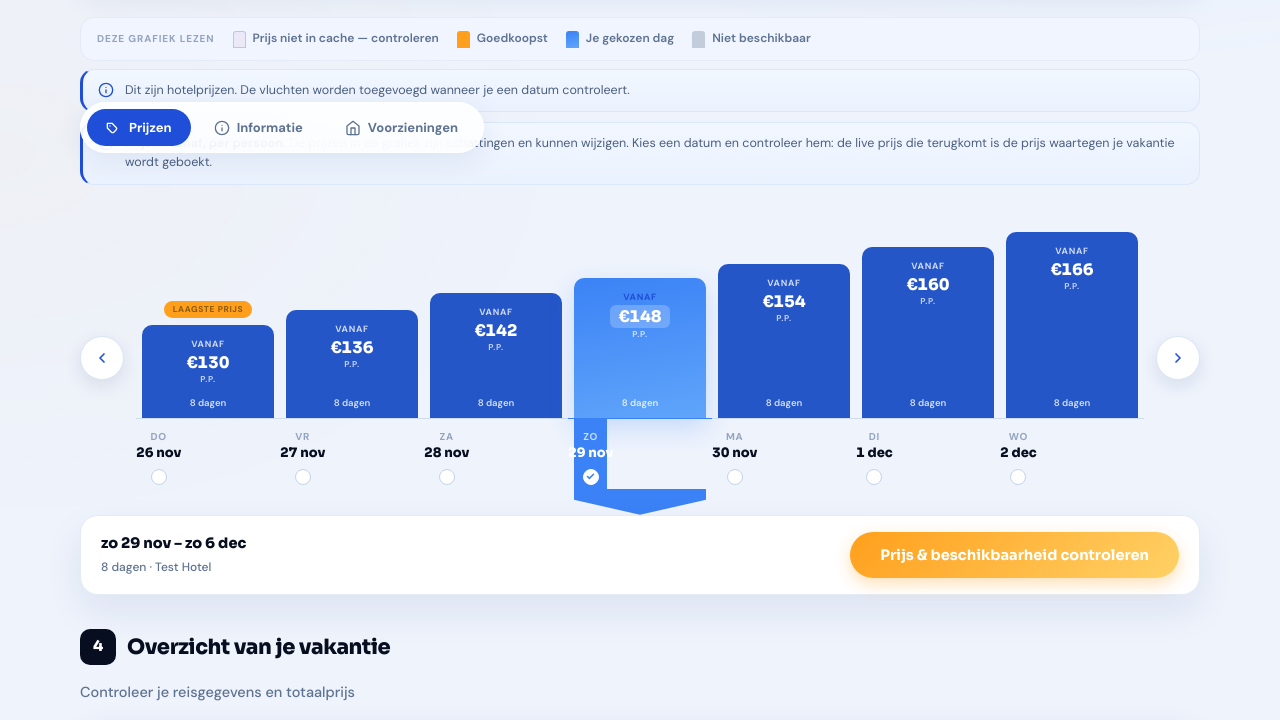
Test case: a sold-out day disables the check button › greys the button and renames it "Not Available"
(page scrolled)
Click the button "Laagste prijs vanaf €130 p.p. 8 dagen do 26 nov" at (208, 361), box [136,207,280,515]
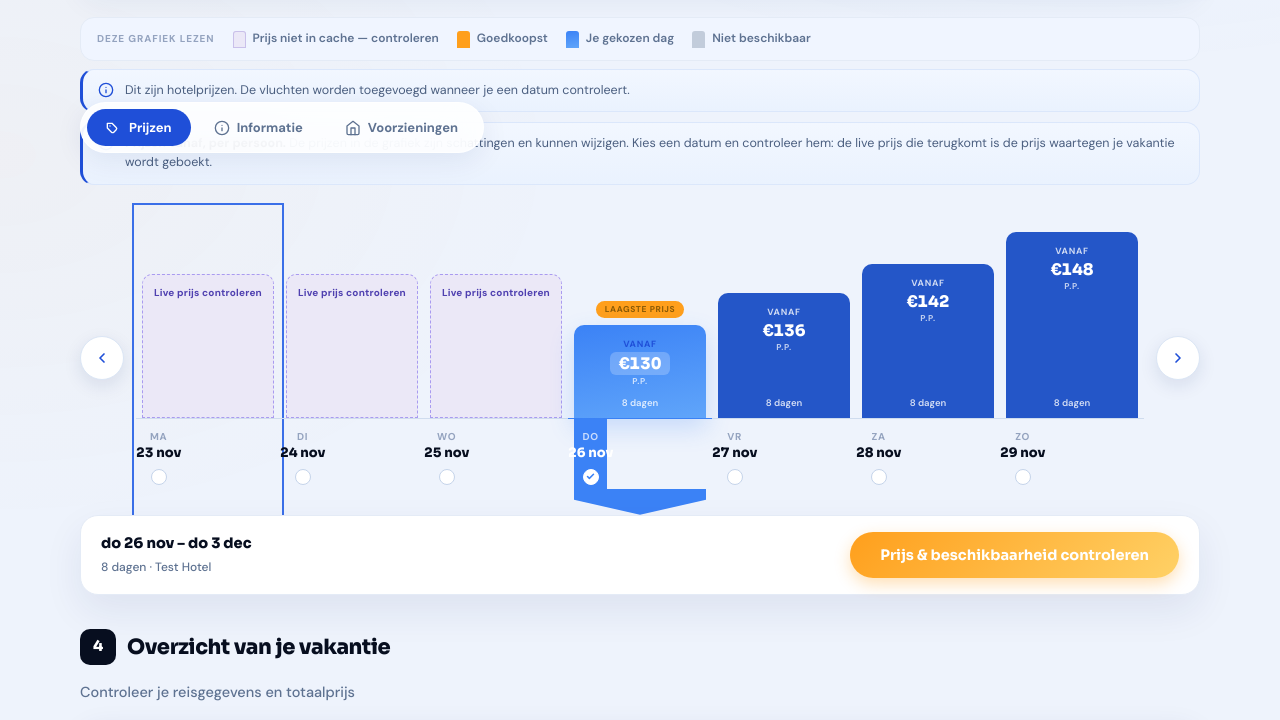
Click the button "Prijs & beschikbaarheid controleren" at (1015, 555), box [850,532,1179,578]
(page scrolled)
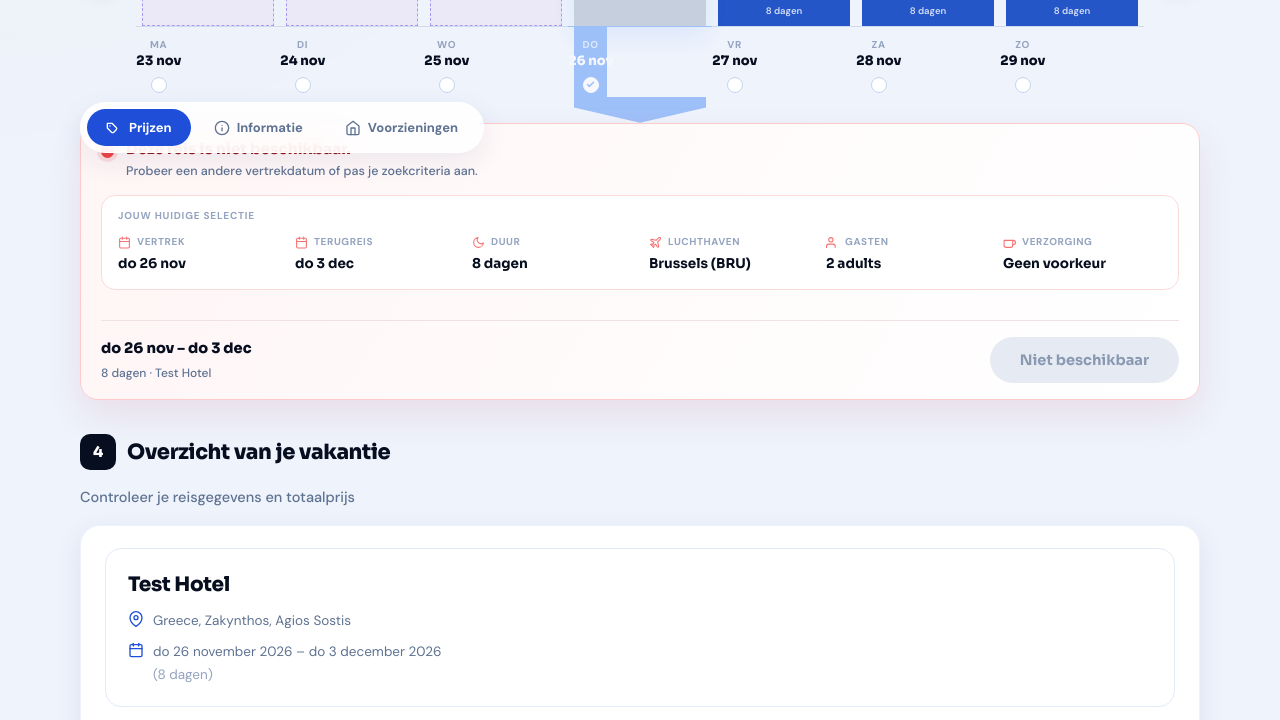
Expected: the button "Niet beschikbaar" is disabled, [990,337,1179,383]
Expected: the button "Prijs & beschikbaarheid controleren" is gone
